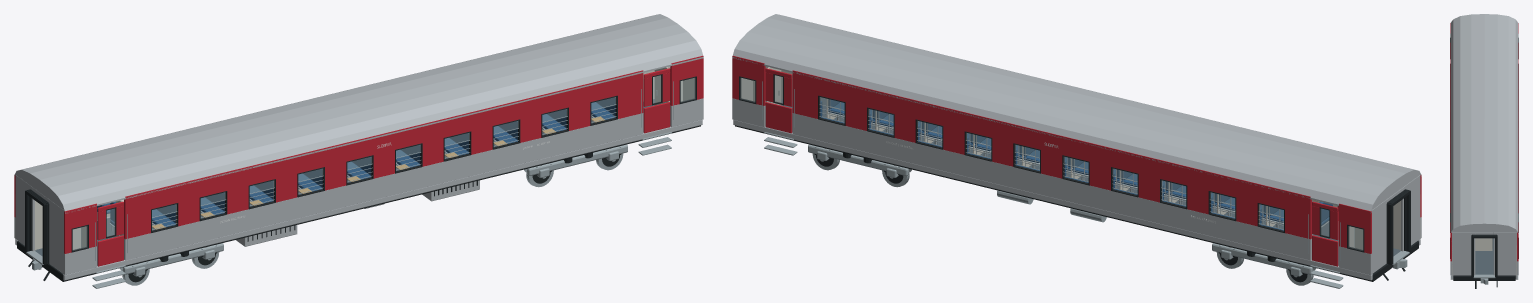
File: LHB_SL.fbx
The picture shows the model from 3 angles, left to right: view 1: azimuth 30°, elevation 25°; view 2: azimuth 150°, elevation 25°; view 3: azimuth 270°, elevation 25°; orthographic projection. The views are drawn at different scales.
Visible parts, largest first — view 1: ROOF_arch, BODYSIDE_sill.001, BODYSIDE_header.001, UNDERFRAME_edge, UNDERFRAME_main, END_wall, END_wall.001, BOGIE_sideframe_FRONT, BODYSIDE_sill.002, BOGIE_sideframe_REAR, DOOR_lower.001, BODYSIDE_sill (+17 smaller); view 2: ROOF_arch, BODYSIDE_sill.004, BODYSIDE_header.004, UNDERFRAME_edge.001, UNDERFRAME_main, INTERIOR_floor, END_wall.001, END_wall, BOGIE_sideframe_FRONT.001, BODYSIDE_sill.005, BOGIE_sideframe_REAR.001, DOOR_lower.003 (+16 smaller); view 3: ROOF_arch, END_wall.002, END_wall.003, INTERIOR_floor, ROOF_endcap.001, UNDERFRAME_main, BAY_partition.009, BODYSIDE_header.001, BODYSIDE_header.004, GANGWAY_bellows.014, GANGWAY_bellows.015, GANGWAY_bridge.001 (+1 smaller).
Part boxes in pixels (left/top/right/bottom): ROOF_arch: left=14, top=14, right=703, bottom=213; BODYSIDE_sill.001: left=124, top=113, right=643, bottom=260; BODYSIDE_header.001: left=124, top=70, right=643, bottom=216; UNDERFRAME_edge: left=63, top=119, right=702, bottom=280; UNDERFRAME_main: left=17, top=125, right=700, bottom=281; END_wall: left=46, top=198, right=63, bottom=273; END_wall.001: left=15, top=175, right=34, bottom=251; BOGIE_sideframe_FRONT: left=527, top=144, right=627, bottom=175; BODYSIDE_sill.002: left=670, top=98, right=703, bottom=127; BOGIE_sideframe_REAR: left=123, top=243, right=223, bottom=274; DOOR_lower.001: left=643, top=102, right=670, bottom=133; BODYSIDE_sill: left=64, top=246, right=96, bottom=274; ROOF_arch: left=732, top=14, right=1421, bottom=213; BODYSIDE_sill.004: left=792, top=113, right=1311, bottom=260; BODYSIDE_header.004: left=792, top=70, right=1311, bottom=216; UNDERFRAME_edge.001: left=733, top=119, right=1372, bottom=280; UNDERFRAME_main: left=735, top=125, right=1418, bottom=281; INTERIOR_floor: left=781, top=97, right=1400, bottom=265; END_wall.001: left=1372, top=198, right=1389, bottom=273; END_wall: left=1401, top=175, right=1420, bottom=251; BOGIE_sideframe_FRONT.001: left=808, top=144, right=908, bottom=175; BODYSIDE_sill.005: left=732, top=98, right=765, bottom=127; BOGIE_sideframe_REAR.001: left=1212, top=243, right=1312, bottom=274; DOOR_lower.003: left=765, top=102, right=792, bottom=133; ROOF_arch: left=1450, top=14, right=1518, bottom=233; END_wall.002: left=1452, top=232, right=1475, bottom=275; END_wall.003: left=1493, top=232, right=1516, bottom=275; INTERIOR_floor: left=1475, top=238, right=1493, bottom=274; ROOF_endcap.001: left=1451, top=223, right=1517, bottom=232; UNDERFRAME_main: left=1453, top=275, right=1515, bottom=280; BAY_partition.009: left=1475, top=238, right=1492, bottom=250; BODYSIDE_header.001: left=1450, top=43, right=1450, bottom=212; BODYSIDE_header.004: left=1518, top=43, right=1518, bottom=212; GANGWAY_bellows.014: left=1471, top=236, right=1473, bottom=276; GANGWAY_bellows.015: left=1495, top=236, right=1497, bottom=276; GANGWAY_bridge.001: left=1473, top=274, right=1495, bottom=278.
Size of the model in its own units: 326 by 2416 by 406.
